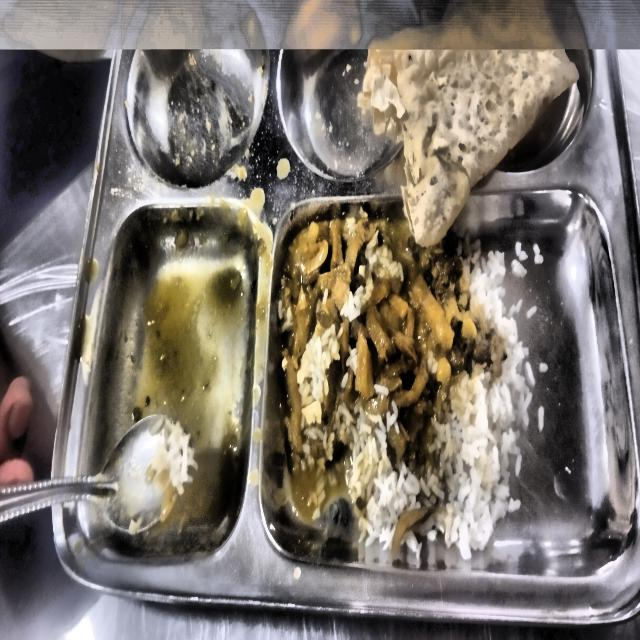No-waste: (358, 49, 578, 246)
Rajma: (291, 241, 516, 536)
